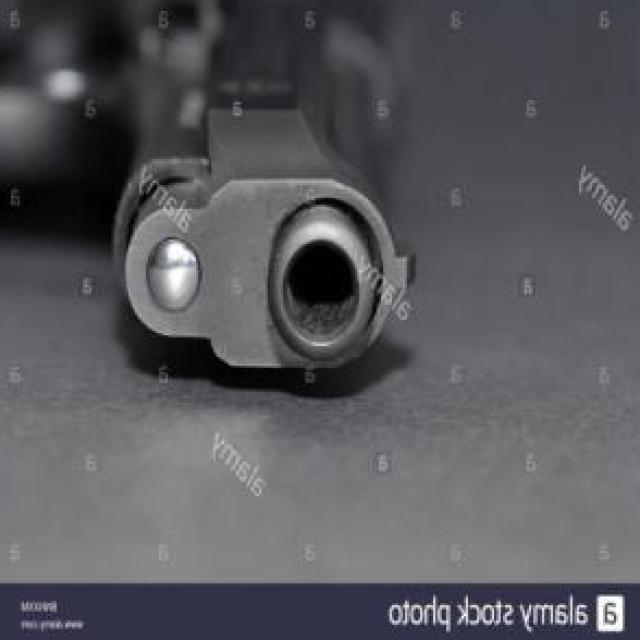pistol: (32, 0, 416, 372)
